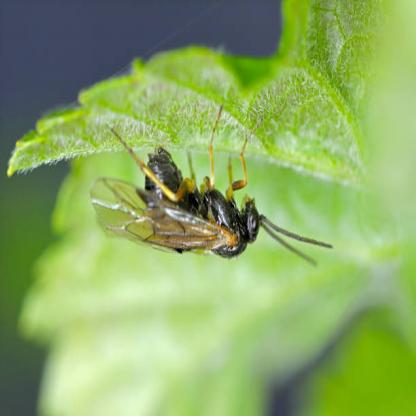sawfly: (89, 95, 332, 270)
